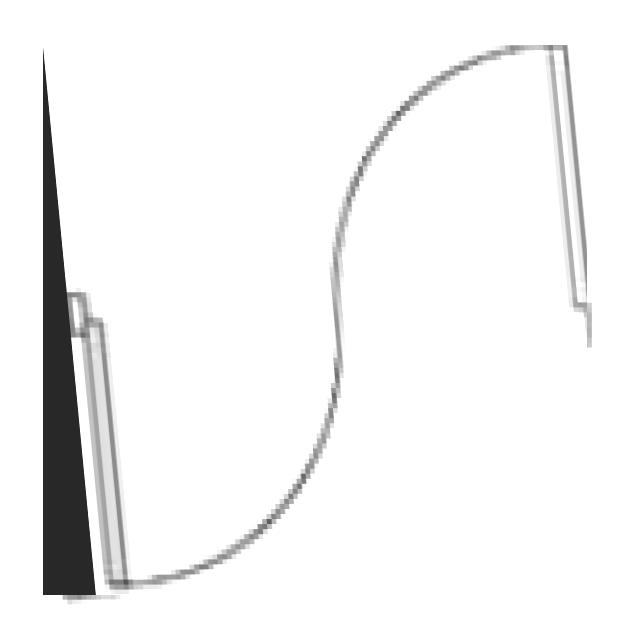door: (43, 45, 587, 595)
